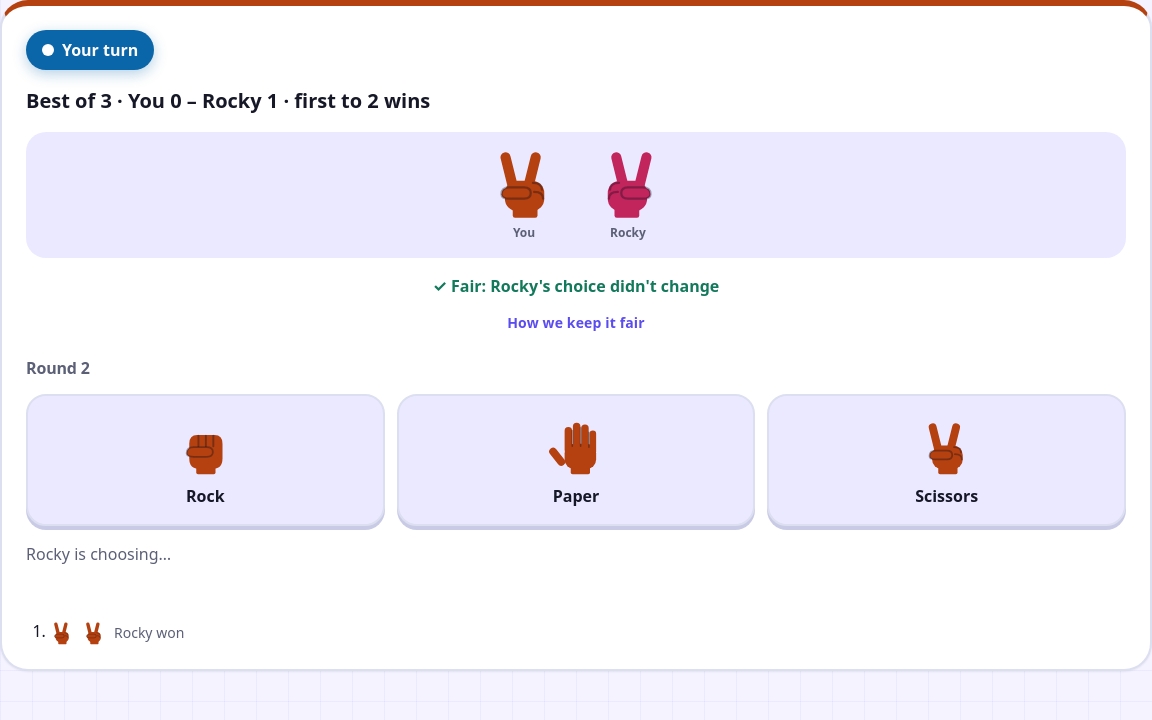
Test: RpsBoard against a computer character › explains the lock in three everyday steps, with the proof folded away
Click the button "How we keep it fair": x=576, y=322 [489, 302, 663, 343]
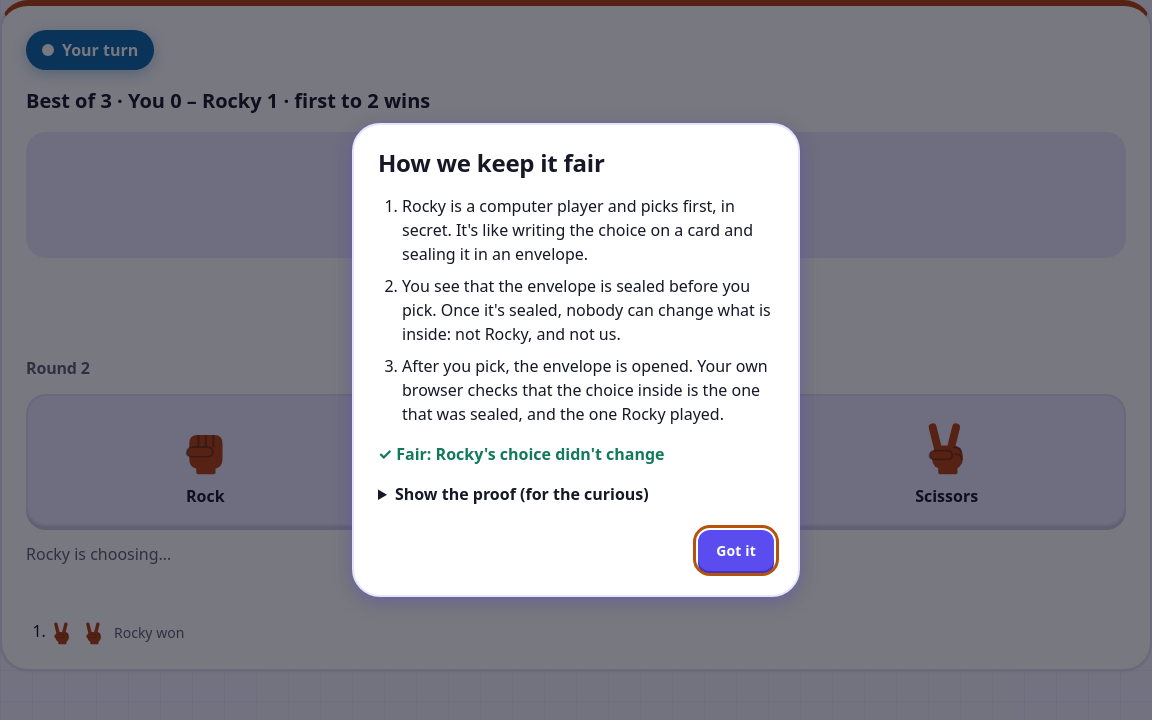
Now the list item that starts with "Rocky" shows "Rocky is a computer player and picks first, in secret", box [402, 194, 774, 266]
Now the list item that starts with "Rocky" shows "sealing it in an envelope", box [402, 195, 753, 265]
Now the 2nd list item shows "nobody can change what is inside: not Rocky, and not us", box [402, 274, 774, 346]
